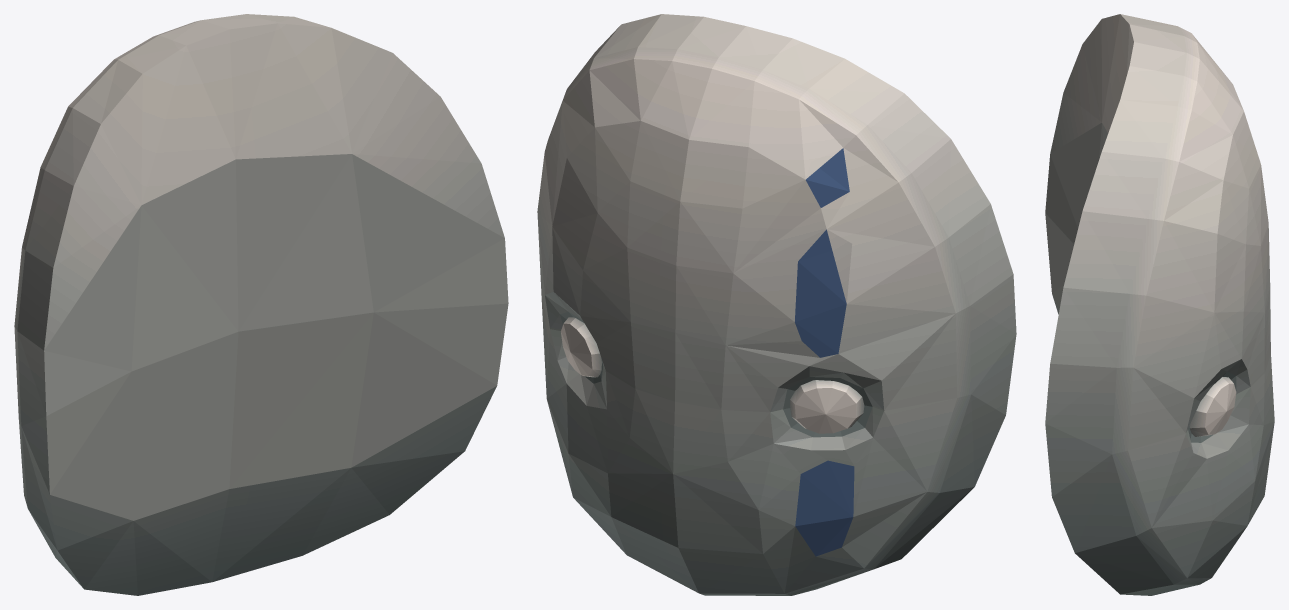
File: CharSkyKid_Mask_AP03E.glb
3 renders of one model, left to right at view 1: azimuth 30°, elevation 25°; view 2: azimuth 150°, elevation 25°; view 3: azimuth 270°, elevation 25°, orthographic. The views are drawn at different scales.
Visible parts, largest first — view 1: CharSkyKid_Mask_AP03E; view 2: CharSkyKid_Mask_AP03E; view 3: CharSkyKid_Mask_AP03E.
Boxes of the visible parts, x1,y1,x2,y2 form: CharSkyKid_Mask_AP03E: (14,14,508,595); CharSkyKid_Mask_AP03E: (537,14,1016,595); CharSkyKid_Mask_AP03E: (1045,14,1274,595).
Size of the model in its own units: 2.11 by 2.46 by 0.97.
1 material, 1 textured.
